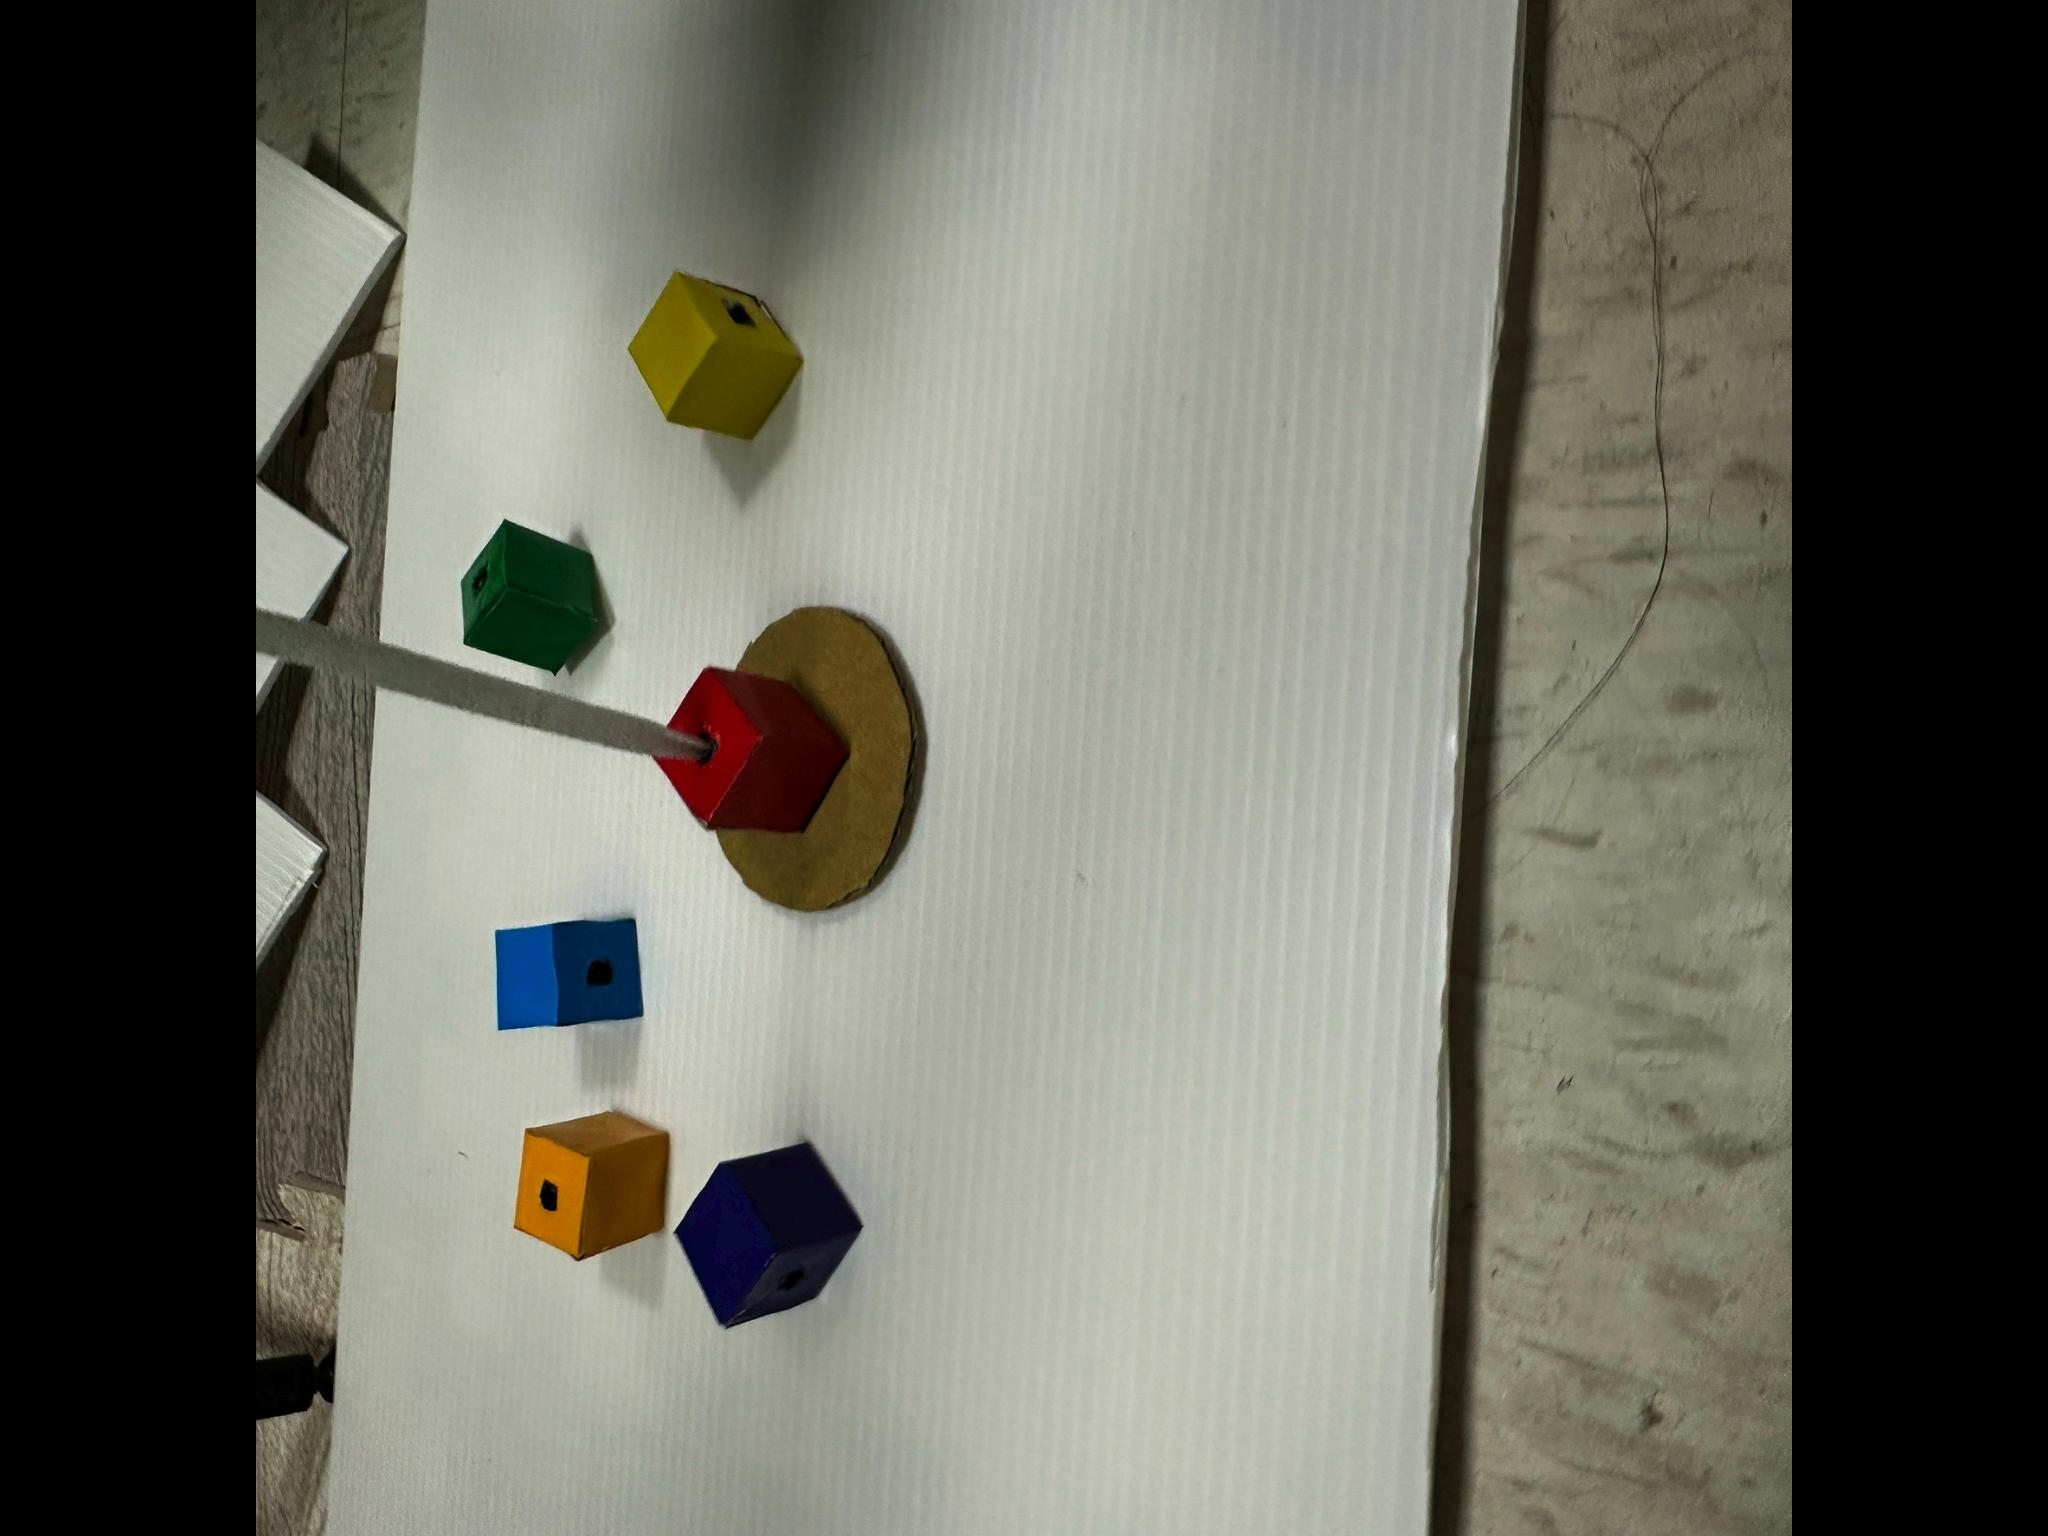base: (719, 607, 914, 912)
cube: (677, 1144, 861, 1326), (656, 668, 848, 831), (629, 269, 801, 437), (514, 1110, 668, 1258), (463, 520, 598, 673), (497, 916, 642, 1028)
